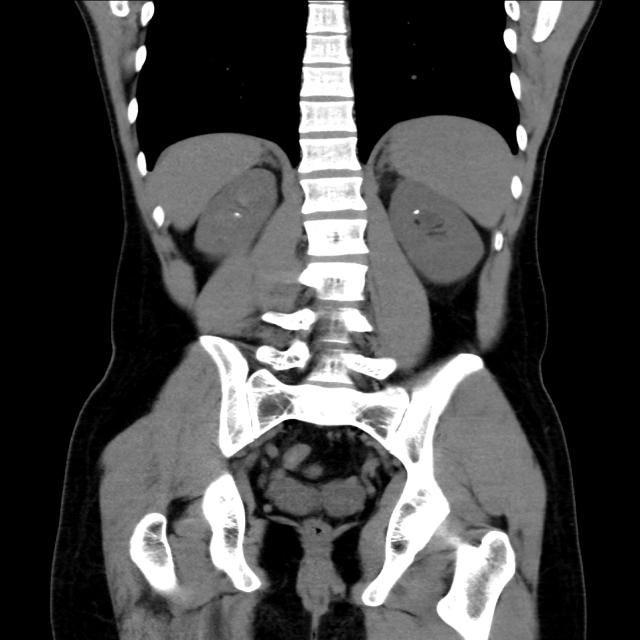kidneystone: (412, 209, 421, 215)
